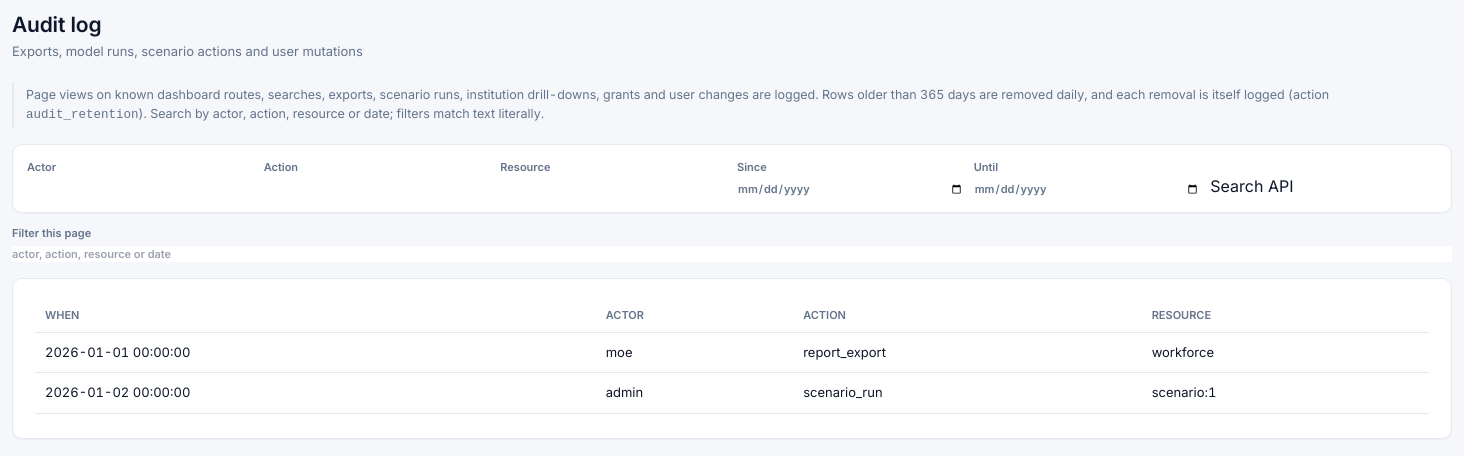
W.ADM.08 searchable audit table › filters rows from the search box
The image size is (1464, 456).
Expected: the number of rows with test id "audit-row" is 2, [35,332,1429,373]; [35,373,1429,413]
Type "report_export" into the field with test id "audit-search" at (732, 254), box [12,246,1452,262]
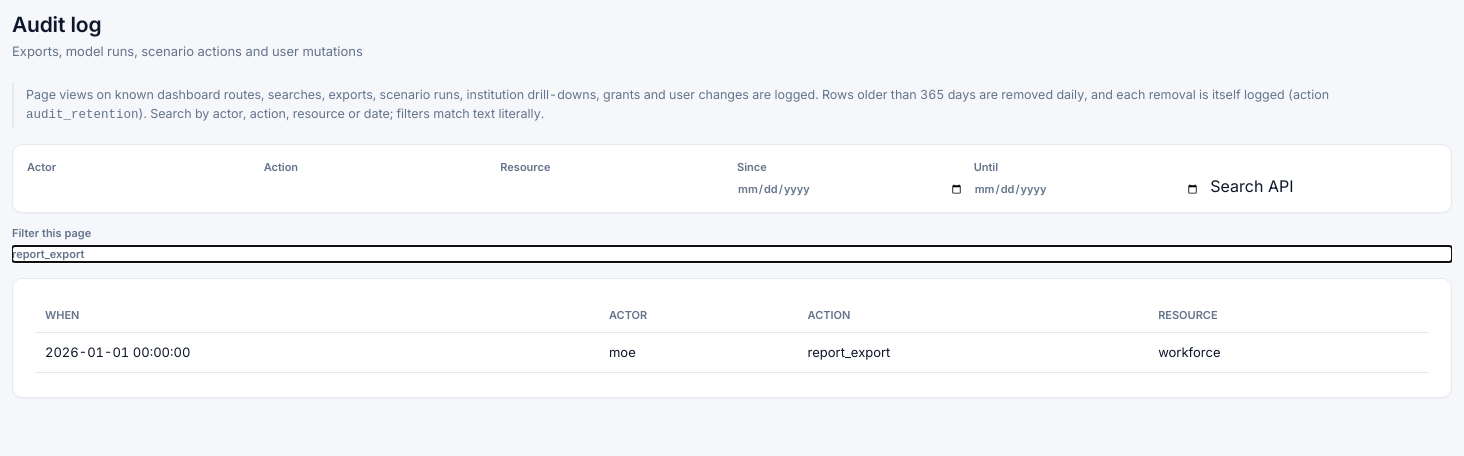
Expected: the text "report_export" is shown, [798,332,1148,373]
Expected: the number of rows with test id "audit-row" is 1, [35,332,1429,373]
